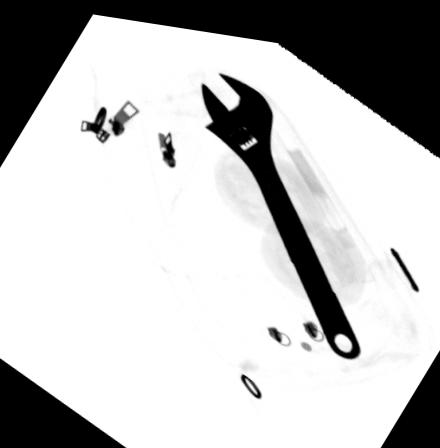Wrench: (199, 62, 364, 351)
